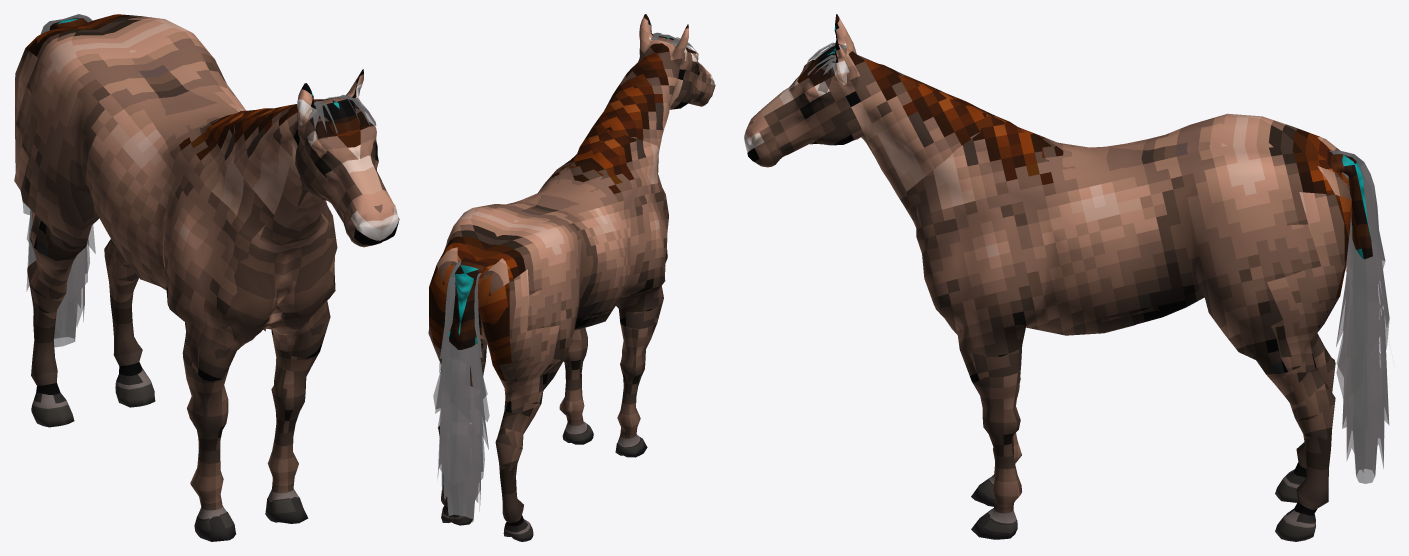
The model's file is horse_727.gltf.
3 renders of one model, left to right at view 1: azimuth 30°, elevation 25°; view 2: azimuth 150°, elevation 25°; view 3: azimuth 270°, elevation 25°, orthographic. The views are drawn at different scales.
Parts seen in each view (by area): view 1: Horse; view 2: Horse; view 3: Horse.
Part boxes in pixels (x1,y1,x2,y2): Horse: (14,14,399,541); Horse: (428,14,715,541); Horse: (744,14,1389,541).
Size of the model in its own units: 1.41 by 4.04 by 4.87.
Materials: 2 (2 with a texture image).
